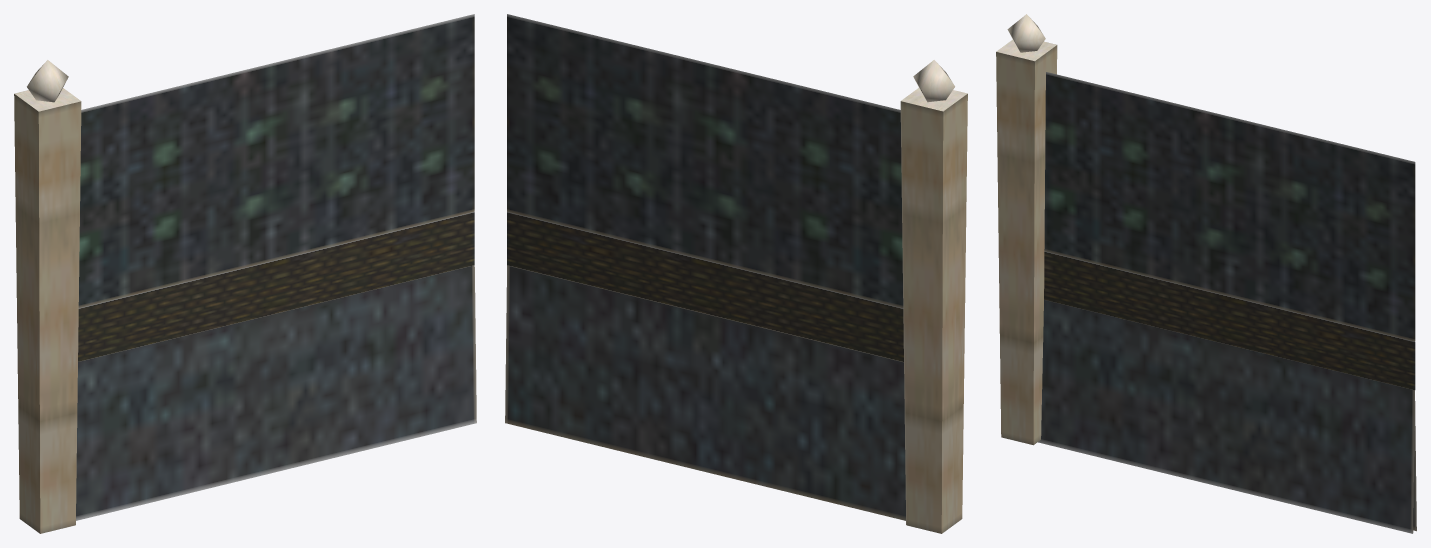
Rendered from thm_nboo_imprv_metal_fence_wall_lg_s02_l2.fbx.
3 renders of one model, left to right at view 1: azimuth 30°, elevation 25°; view 2: azimuth 150°, elevation 25°; view 3: azimuth 330°, elevation 25°, orthographic. The views are drawn at different scales.
Parts seen in each view (by area): view 1: mesh_node; view 2: mesh_node; view 3: mesh_node.
Boxes of the visible parts, left/top/right/bottom form: mesh_node: left=14, top=14, right=476, bottom=533; mesh_node: left=505, top=14, right=967, bottom=533; mesh_node: left=996, top=14, right=1416, bottom=533.
Size of the model in its own units: 6.3 by 6.26 by 0.6.
